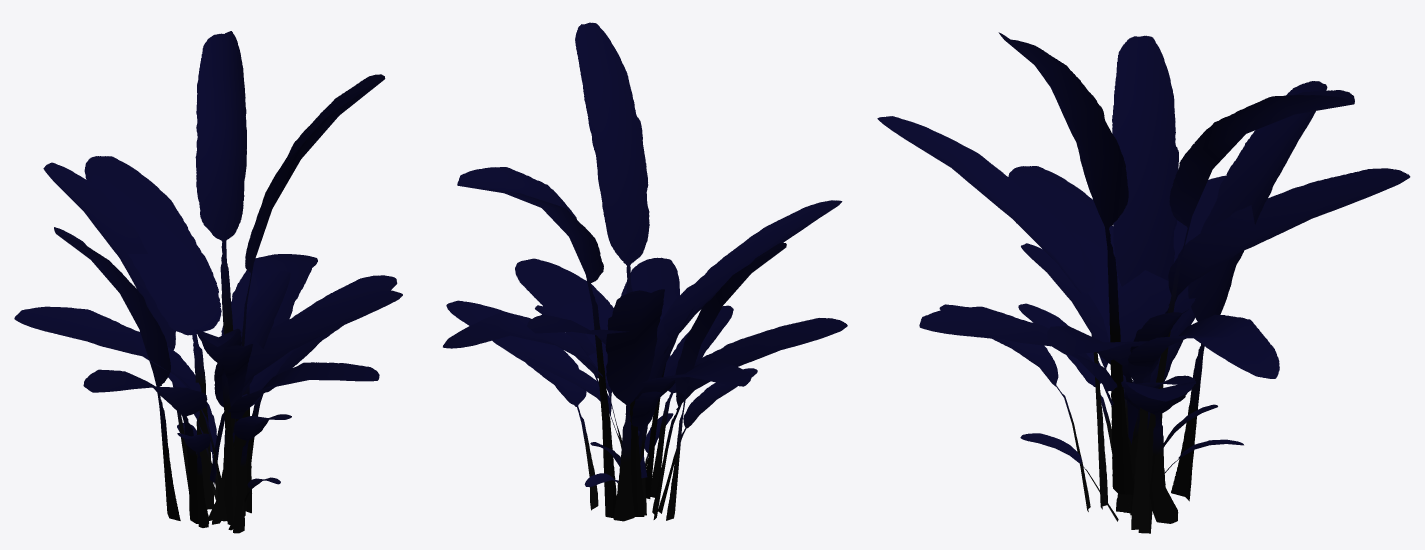
Rendered from SM_Foliage_PalmPlantA_07.fbx.
The picture shows the model from 3 angles, left to right: view 1: azimuth 30°, elevation 25°; view 2: azimuth 150°, elevation 25°; view 3: azimuth 270°, elevation 25°; orthographic projection. The views are drawn at different scales.
Visible parts, largest first — view 1: SM_Foliage_PalmPlantA_07; view 2: SM_Foliage_PalmPlantA_07; view 3: SM_Foliage_PalmPlantA_07.
Part boxes in pixels (x1,y1,x2,y2): SM_Foliage_PalmPlantA_07: [14, 31, 402, 533]; SM_Foliage_PalmPlantA_07: [443, 22, 847, 521]; SM_Foliage_PalmPlantA_07: [877, 32, 1410, 533].
Bounding box in the file's own units: 412 × 428 × 492.
